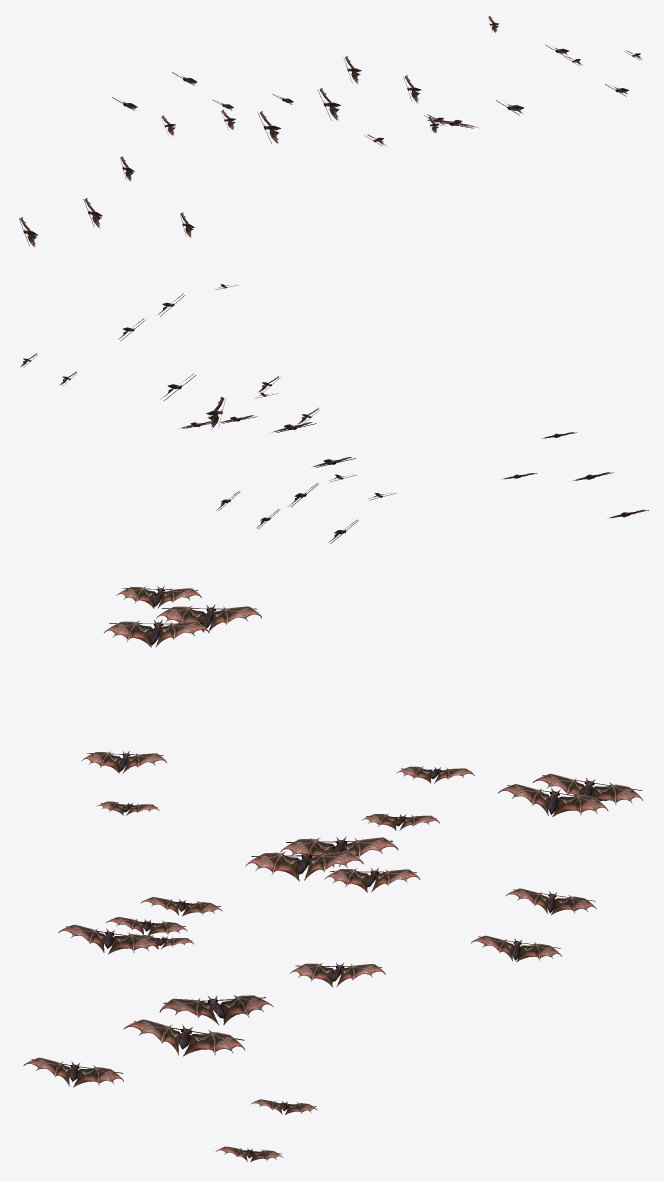
Rendered from zuldrak_bats_lower_01.obj.
3 renders of one model, top to bottom at view 1: azimuth 30°, elevation 25°; view 2: azimuth 150°, elevation 25°; view 3: azimuth 270°, elevation 25°, orthographic. The views are drawn at different scales.
Parts seen in each view (by area): view 1: ZULDRAK_BATS_LOWER_010, ZULDRAK_BATS_LOWER_011; view 2: ZULDRAK_BATS_LOWER_010, ZULDRAK_BATS_LOWER_011; view 3: ZULDRAK_BATS_LOWER_010, ZULDRAK_BATS_LOWER_011.
Part boxes in pixels (left/top/right/bottom): ZULDRAK_BATS_LOWER_010: left=20, top=16, right=642, bottom=247; ZULDRAK_BATS_LOWER_011: left=19, top=24, right=639, bottom=245; ZULDRAK_BATS_LOWER_010: left=20, top=284, right=645, bottom=542; ZULDRAK_BATS_LOWER_011: left=23, top=285, right=648, bottom=543; ZULDRAK_BATS_LOWER_010: left=23, top=585, right=642, bottom=1162; ZULDRAK_BATS_LOWER_011: left=31, top=588, right=642, bottom=1154.
Size of the model in its own units: 19.95 by 4.12 by 8.96.
Materials: 1 (1 with a texture image).
